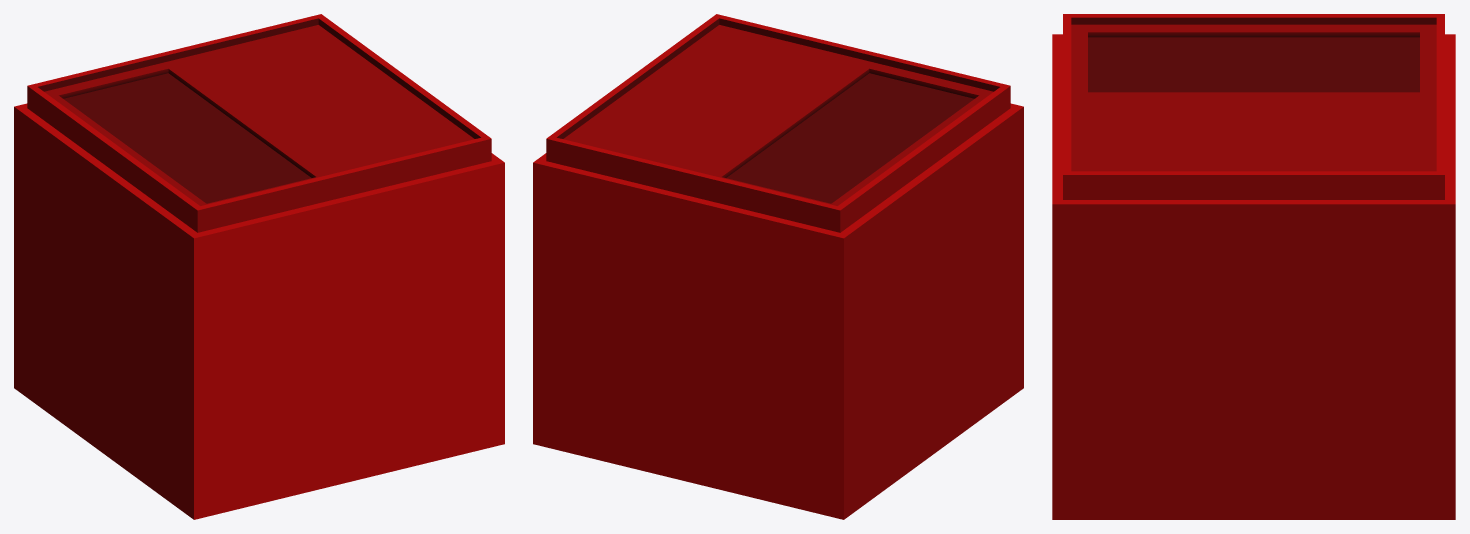
The model's file is buildings-industrial-smallindustrialstructure_v1.fbx.
3 renders of one model, left to right at view 1: azimuth 30°, elevation 25°; view 2: azimuth 150°, elevation 25°; view 3: azimuth 270°, elevation 25°, orthographic. The views are drawn at different scales.
Parts seen in each view (by area): view 1: SmallIndustrialStructure_v1; view 2: SmallIndustrialStructure_v1; view 3: SmallIndustrialStructure_v1.
Part boxes in pixels (x1=…): SmallIndustrialStructure_v1: x1=14, y1=14, x2=504, y2=519; SmallIndustrialStructure_v1: x1=533, y1=14, x2=1023, y2=519; SmallIndustrialStructure_v1: x1=1052, y1=14, x2=1455, y2=519.
Bounding box in the file's own units: 10.78 × 10.07 × 10.82.
